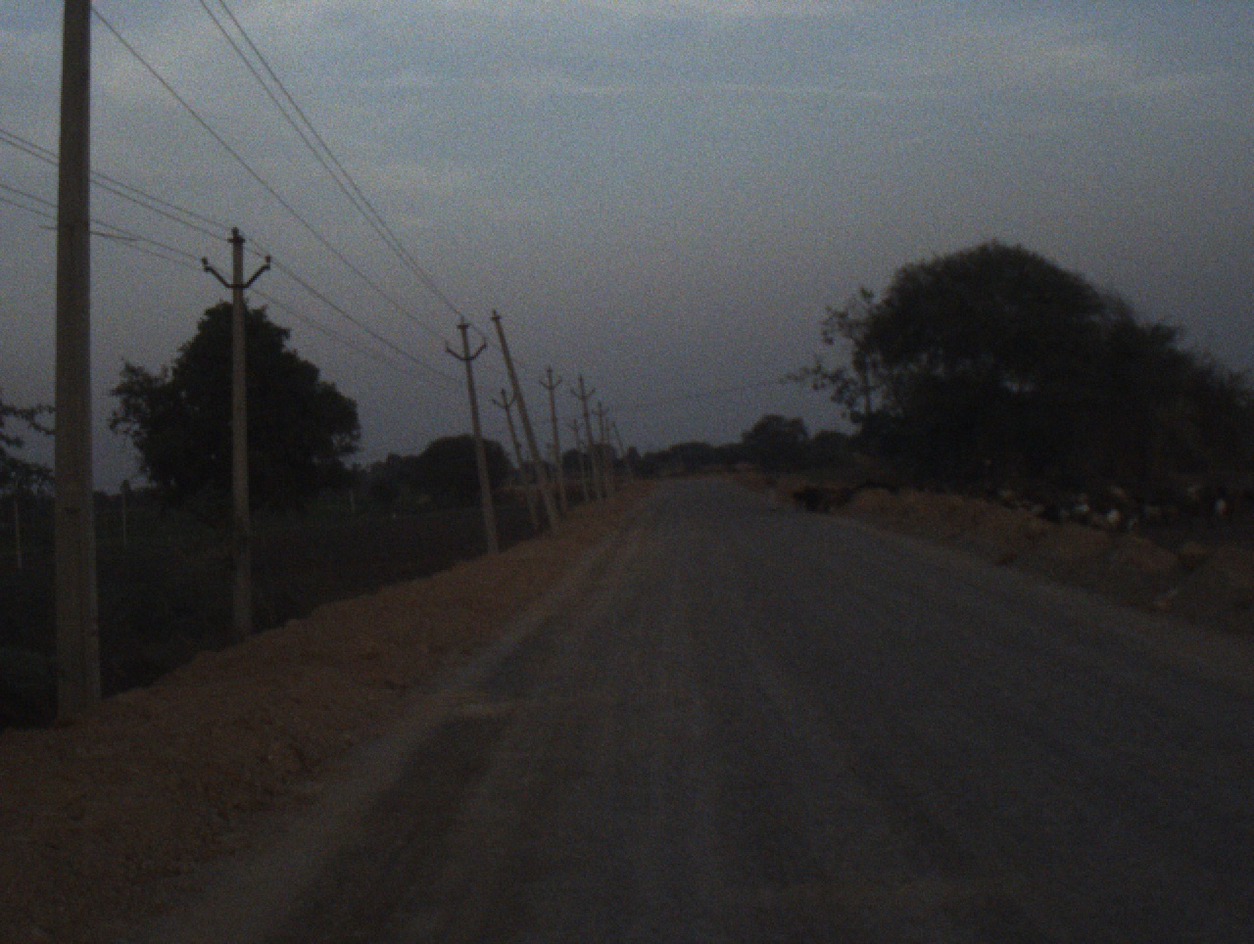animal: (1157, 481, 1243, 529), (1068, 487, 1135, 518), (981, 481, 1050, 508), (803, 481, 853, 509)
person: (756, 452, 789, 518)
